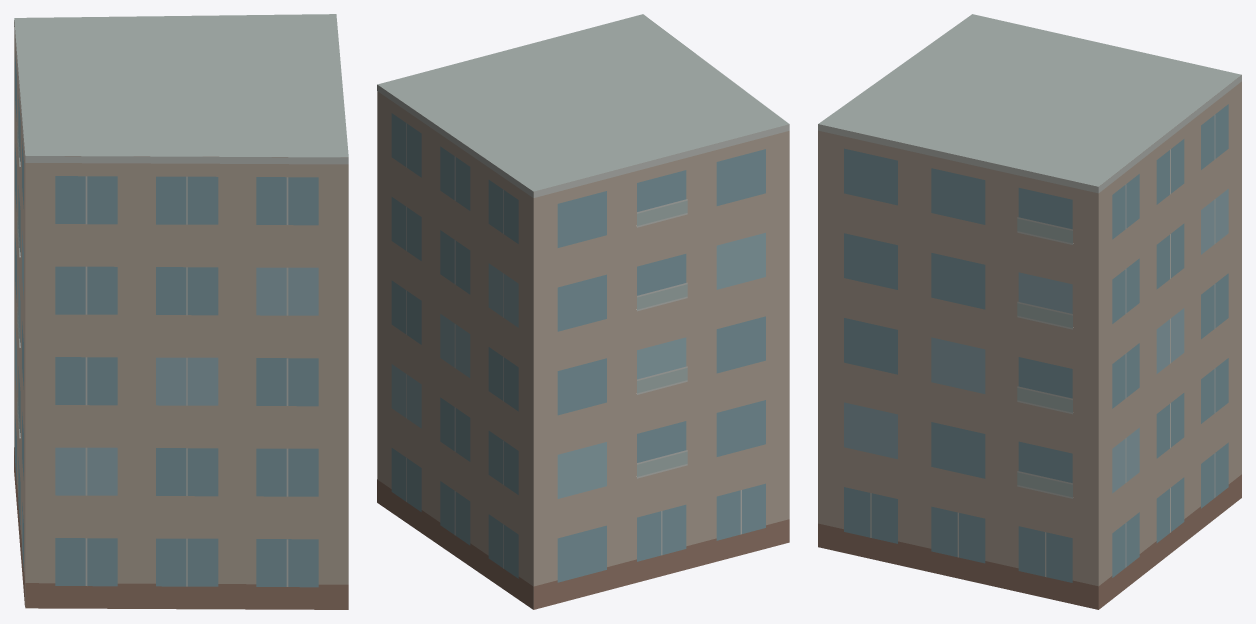
Rendered from survey-upis-32973272.glb.
3 views of the same model, side by side, from view 1: azimuth 30°, elevation 25°; view 2: azimuth 150°, elevation 25°; view 3: azimuth 270°, elevation 25° (orthographic). The views are drawn at different scales.
Parts seen in each view (by area): view 1: survey-upis-32973272.tmp; view 2: survey-upis-32973272.tmp; view 3: survey-upis-32973272.tmp.
Part boxes in pixels (left/top/right/bottom): survey-upis-32973272.tmp: left=14, top=14, right=348, bottom=609; survey-upis-32973272.tmp: left=377, top=14, right=789, bottom=609; survey-upis-32973272.tmp: left=818, top=14, right=1241, bottom=609.
Bounding box in the file's own units: 13.76 × 15.7 × 14.26.
